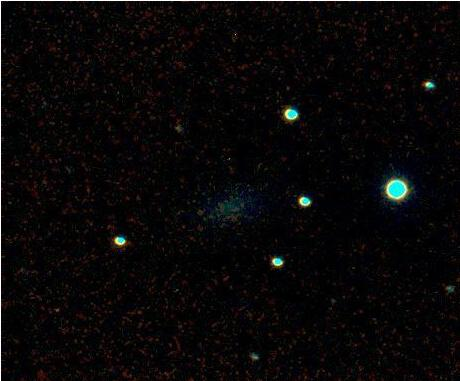star: (41, 291, 71, 321)
